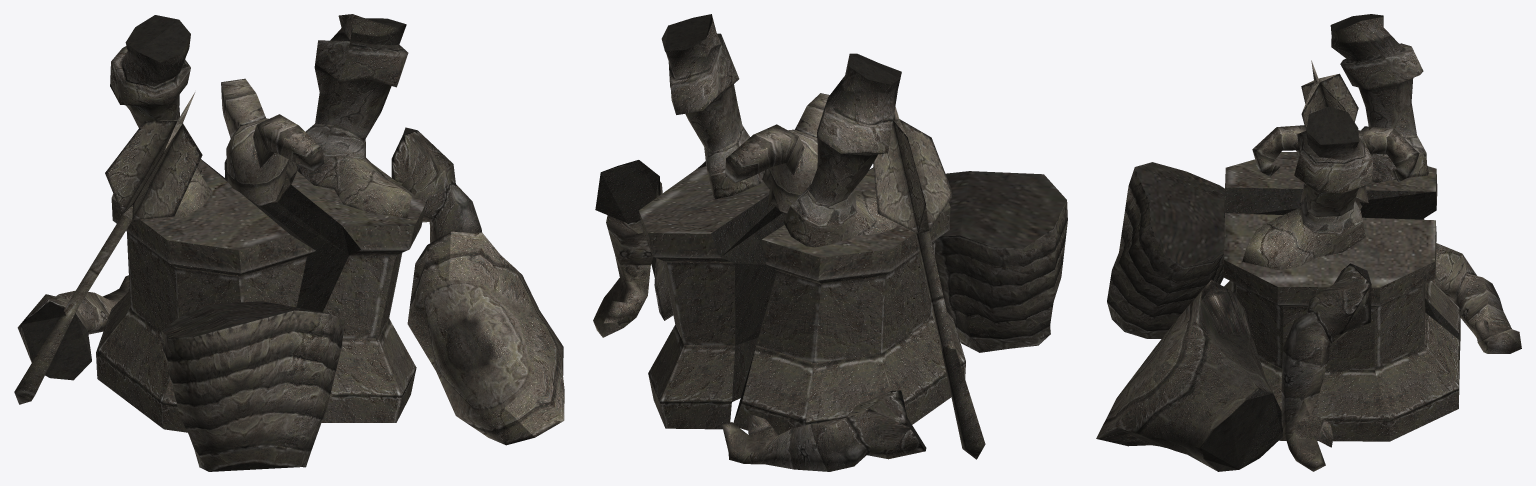
Rendered from statue-Warrior-04.FBX.
3 views of the same model, side by side, from view 1: azimuth 30°, elevation 25°; view 2: azimuth 150°, elevation 25°; view 3: azimuth 270°, elevation 25° (orthographic). The views are drawn at different scales.
Visible parts, largest first — view 1: statue-Warrior-04; view 2: statue-Warrior-04; view 3: statue-Warrior-04.
Boxes of the visible parts, left/top/right/bottom form: statue-Warrior-04: left=14, top=14, right=564, bottom=471; statue-Warrior-04: left=593, top=14, right=1067, bottom=471; statue-Warrior-04: left=1096, top=14, right=1521, bottom=471.
Size of the model in its own units: 3.55 by 2.96 by 3.34.
